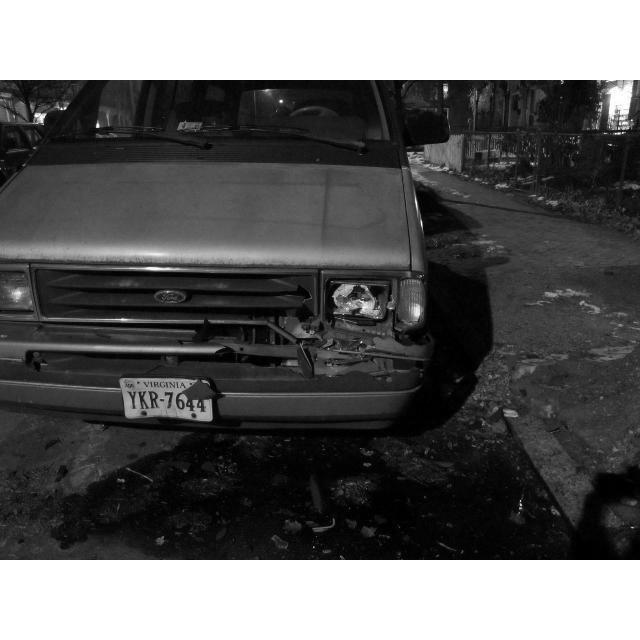Headlight-damage: (288, 261, 412, 357)
